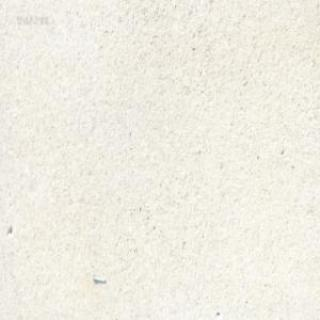Nailtrack_idkeyframe: (91, 272, 107, 282)
